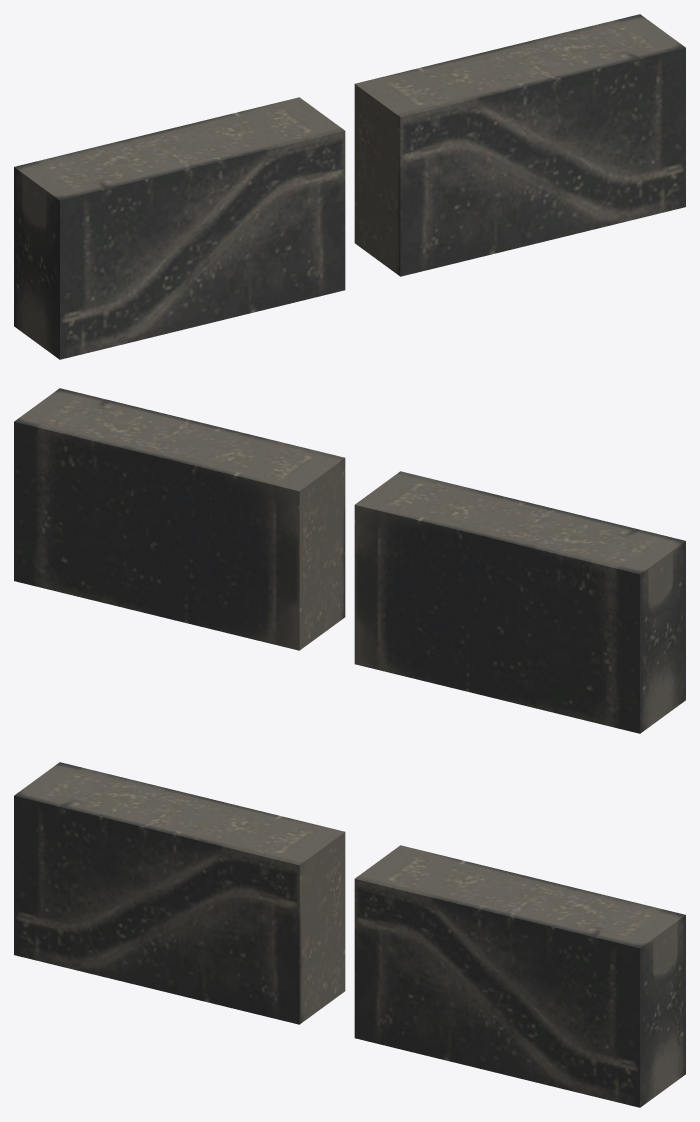
3 views of the same model, one above another, from view 1: azimuth 30°, elevation 25°; view 2: azimuth 150°, elevation 25°; view 3: azimuth 330°, elevation 25° (orthographic).
Parts seen in each view (by area): view 1: set_0_group_0; view 2: set_0_group_0; view 3: set_0_group_0.
Part boxes in pixels (box(x1,y1,x2,y2)): set_0_group_0: box(14, 14, 685, 359); set_0_group_0: box(14, 388, 685, 733); set_0_group_0: box(14, 762, 685, 1107).
Size of the model in its own units: 0.6698 by 0.1629 by 0.085.
1 material, 1 textured.
